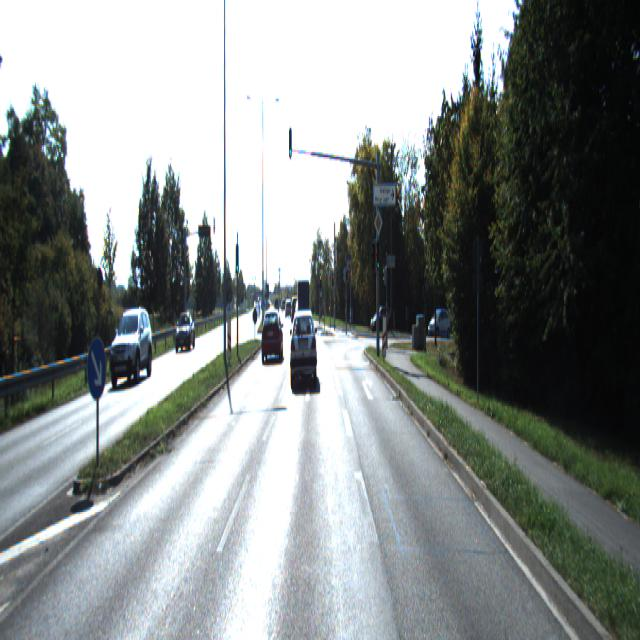Car: (109, 307, 153, 382), (290, 317, 318, 390), (261, 310, 283, 364), (296, 278, 310, 338), (175, 312, 195, 353)
